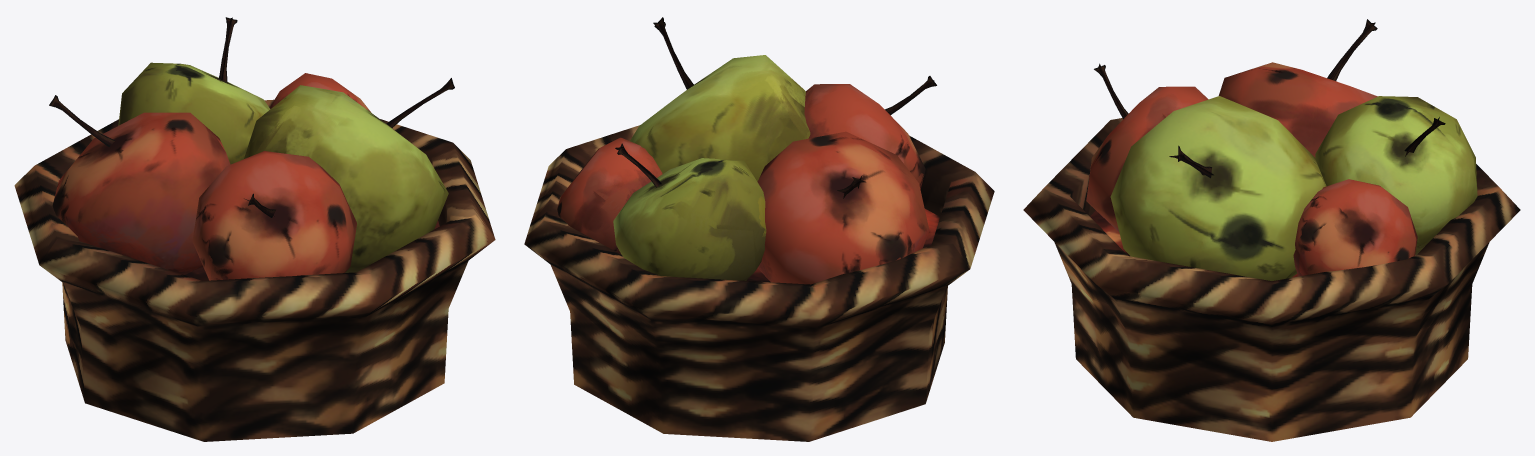
File: GAM_FoodBasket.FBX
3 renders of one model, left to right at view 1: azimuth 30°, elevation 25°; view 2: azimuth 150°, elevation 25°; view 3: azimuth 270°, elevation 25°, orthographic. The views are drawn at different scales.
Parts seen in each view (by area): view 1: GAM_FoodBasket; view 2: GAM_FoodBasket; view 3: GAM_FoodBasket.
Part boxes in pixels (bbox=[...]): GAM_FoodBasket: bbox=[14, 17, 495, 441]; GAM_FoodBasket: bbox=[524, 17, 994, 441]; GAM_FoodBasket: bbox=[1023, 19, 1520, 441].
Bounding box in the file's own units: 45.88 × 29.2 × 45.88.
Materials: 1 (1 with a texture image).
